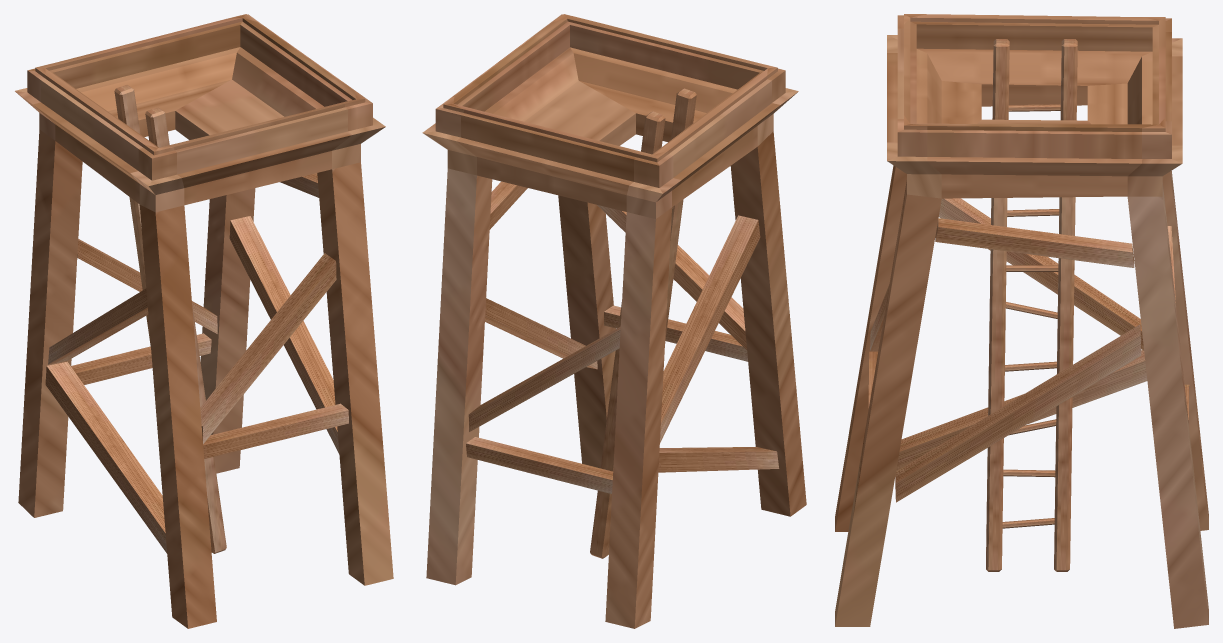
Rendered from tower.fbx.
The picture shows the model from 3 angles, left to right: view 1: azimuth 30°, elevation 25°; view 2: azimuth 150°, elevation 25°; view 3: azimuth 270°, elevation 25°; orthographic projection. The views are drawn at different scales.
Parts seen in each view (by area): view 1: Cube; view 2: Cube; view 3: Cube.
Part boxes in pixels (x1,y1,x2,y2): Cube: (15, 14, 393, 628); Cube: (422, 14, 806, 628); Cube: (835, 14, 1208, 628).
Bounding box in the file's own units: 460 × 848 × 569.
